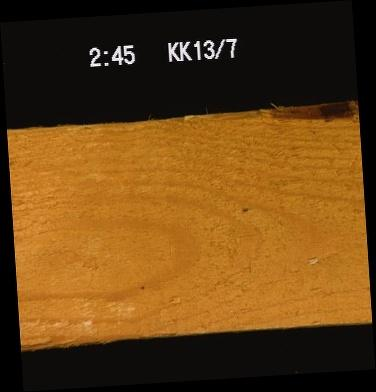small_knot: (238, 203, 249, 215)
wave: (268, 101, 355, 122)
